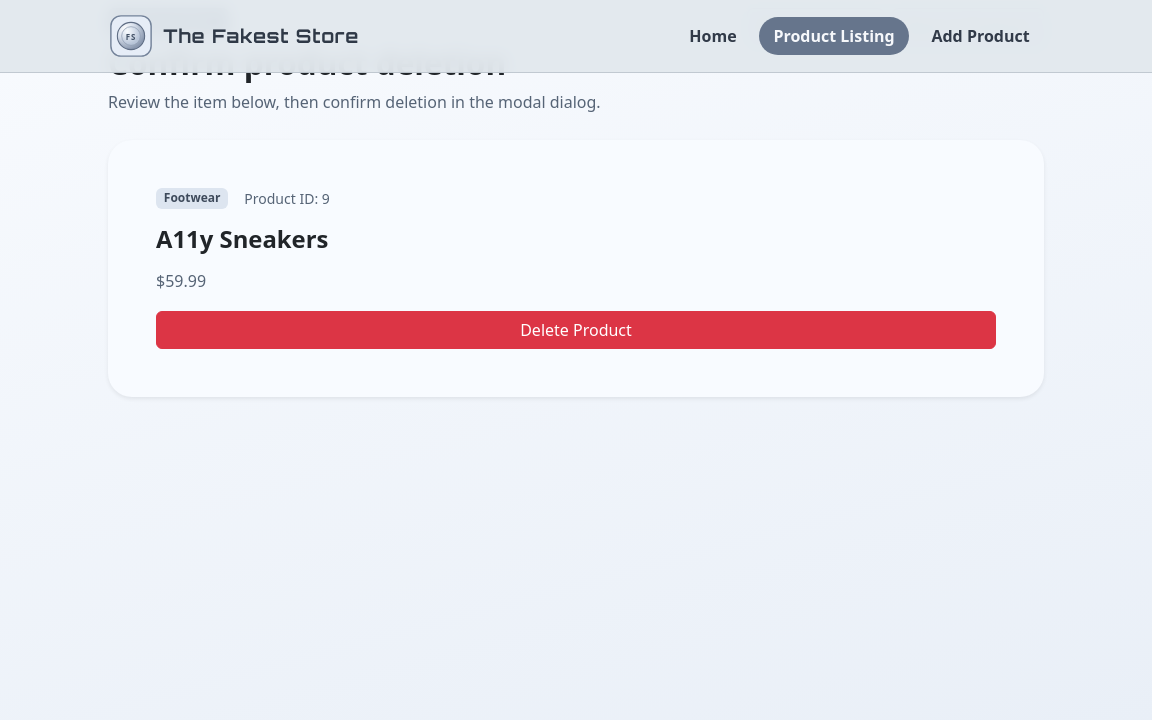
it: Accessibility checks › has no obvious accessibility violations when delete confirmation modal is open
(page scrolled)
Expected: the heading "A11y Sneakers" is shown, [156,223,328,255]
Step 1. Click the button "Delete Product" → coordinates (576, 330), box [156,311,996,349]
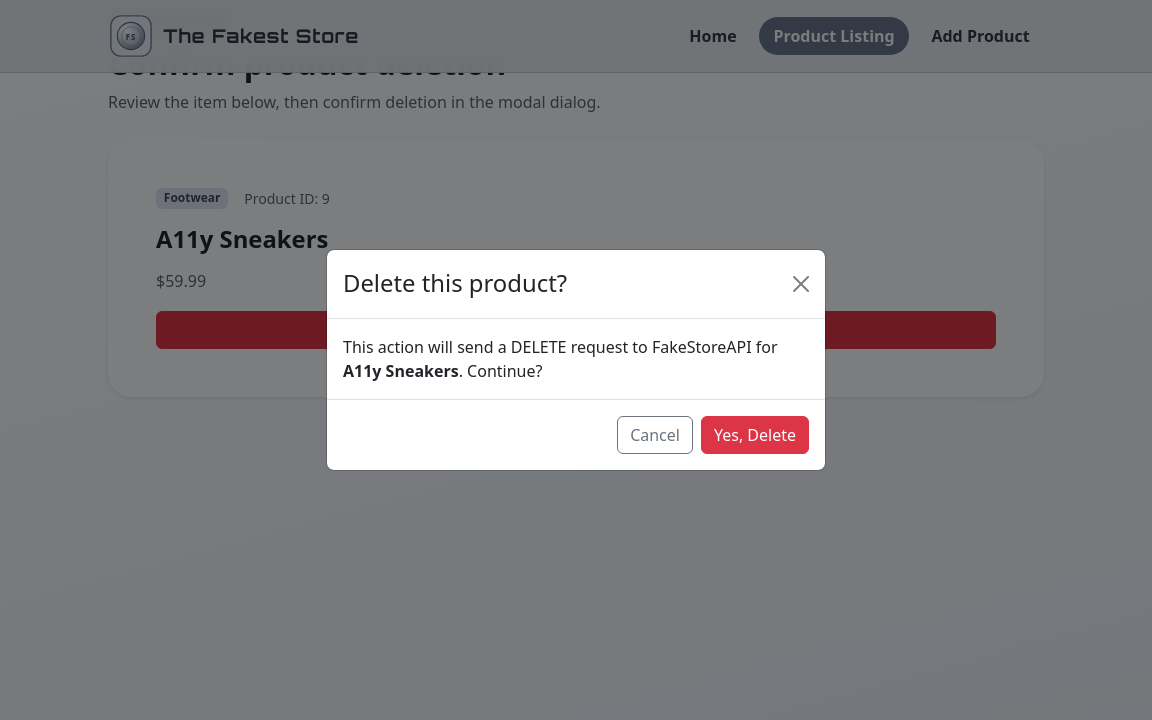
Result: the dialog "Delete this product?" is shown at [326,249,826,471]
